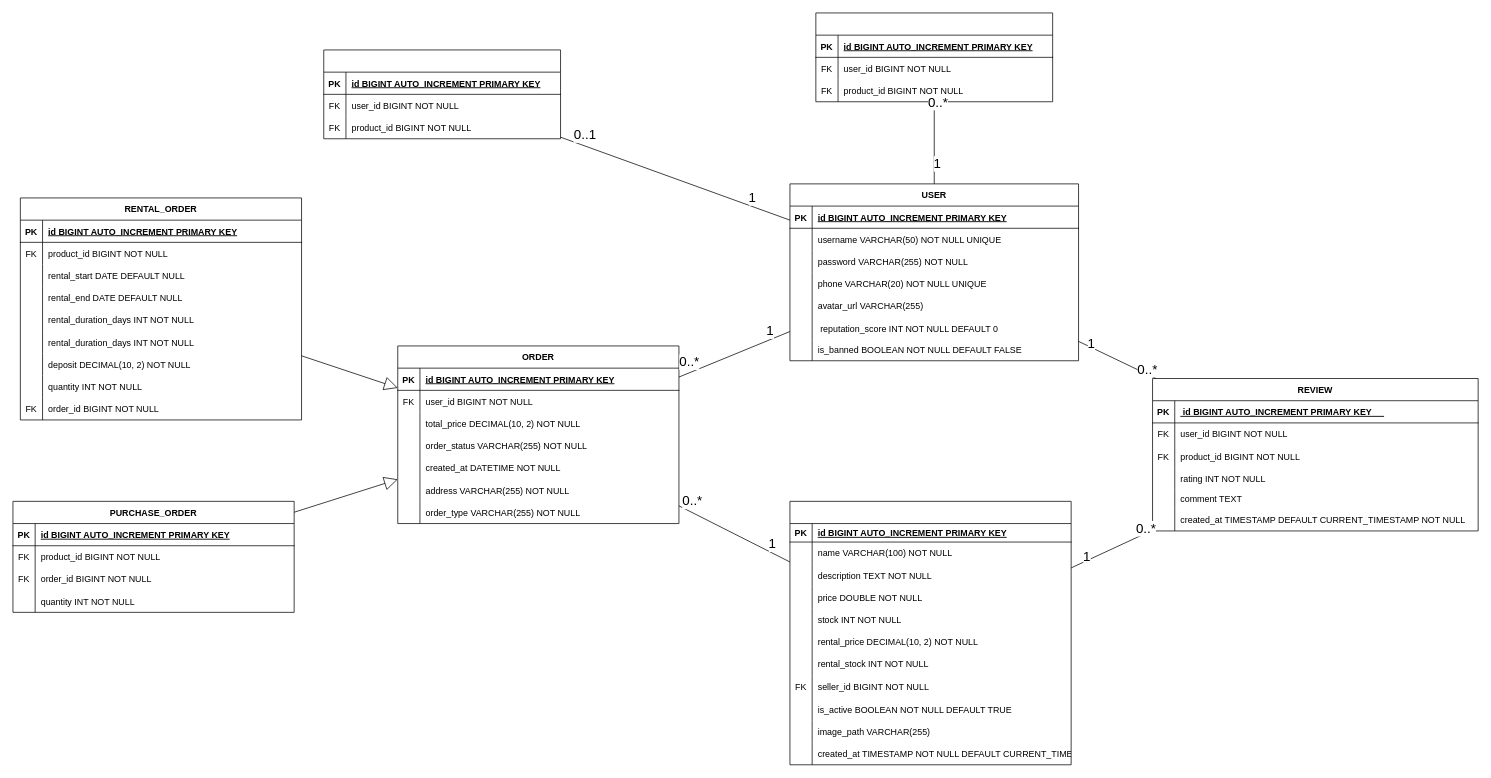
This 1491x778 diagram has some shape labels left out. Each missing label, with the box of its shape:
ADMINS: (323, 49, 561, 139)
CARTS: (815, 12, 1053, 102)
Product: (789, 501, 1071, 765)
